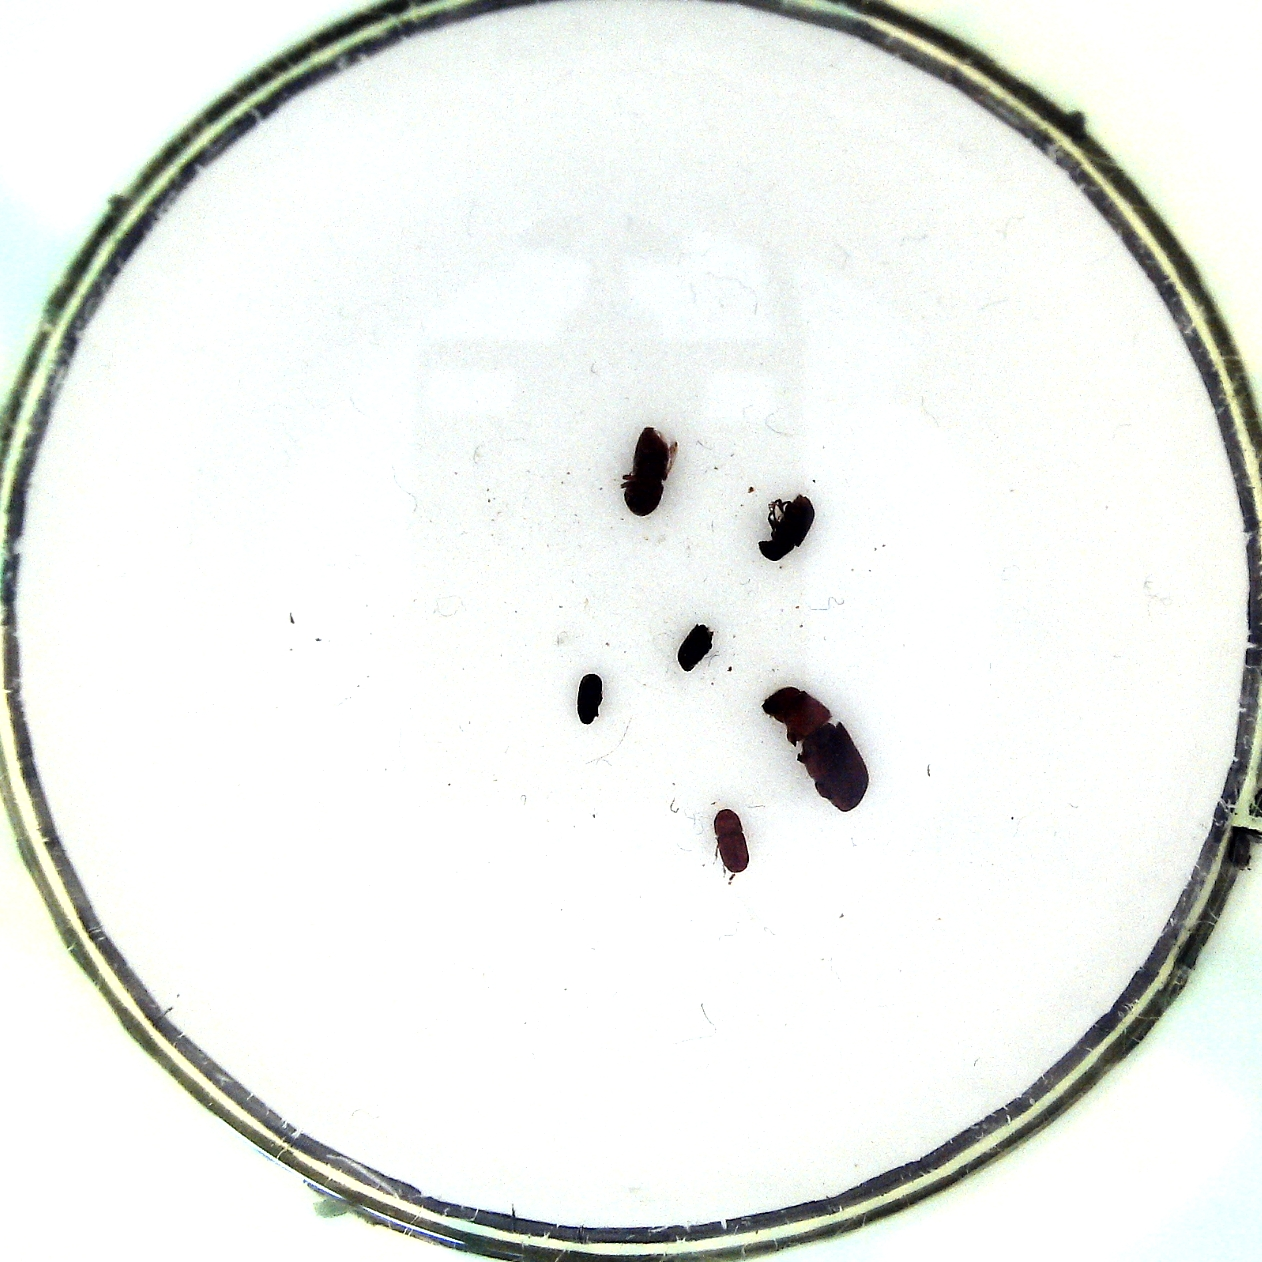Leconte: (760, 685, 871, 811)
Linnaeus: (618, 426, 682, 524)
acuminatus: (711, 804, 754, 879)
armandi: (754, 493, 825, 562)
coleoptera: (569, 665, 610, 732), (677, 617, 718, 673)
